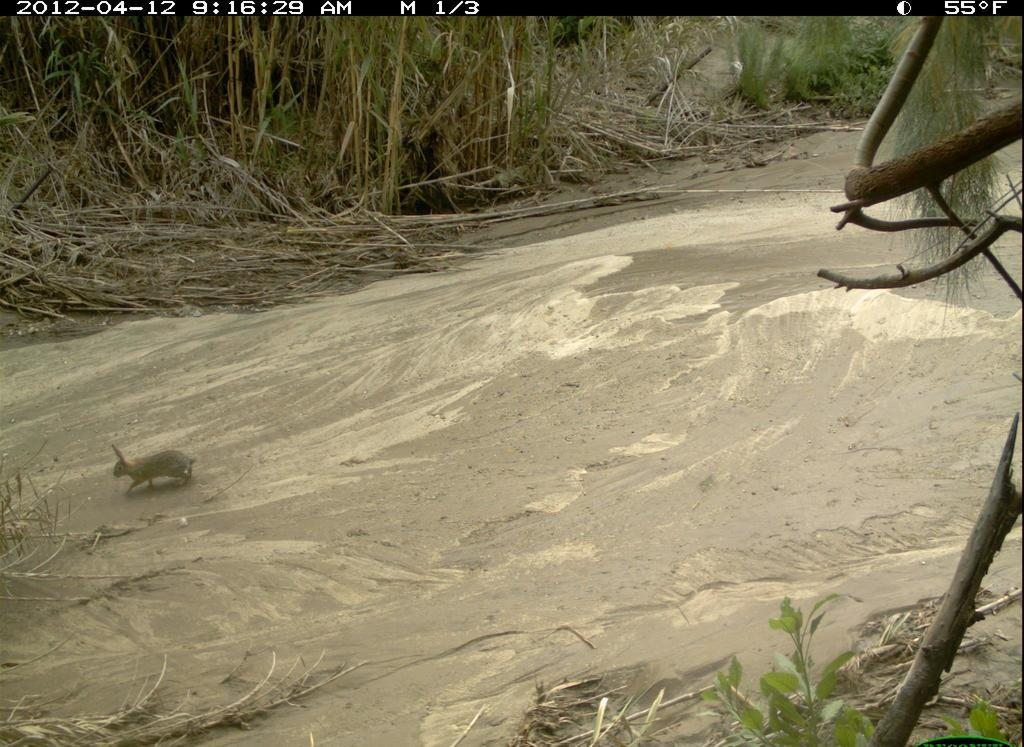rabbit: (107, 442, 207, 498)
